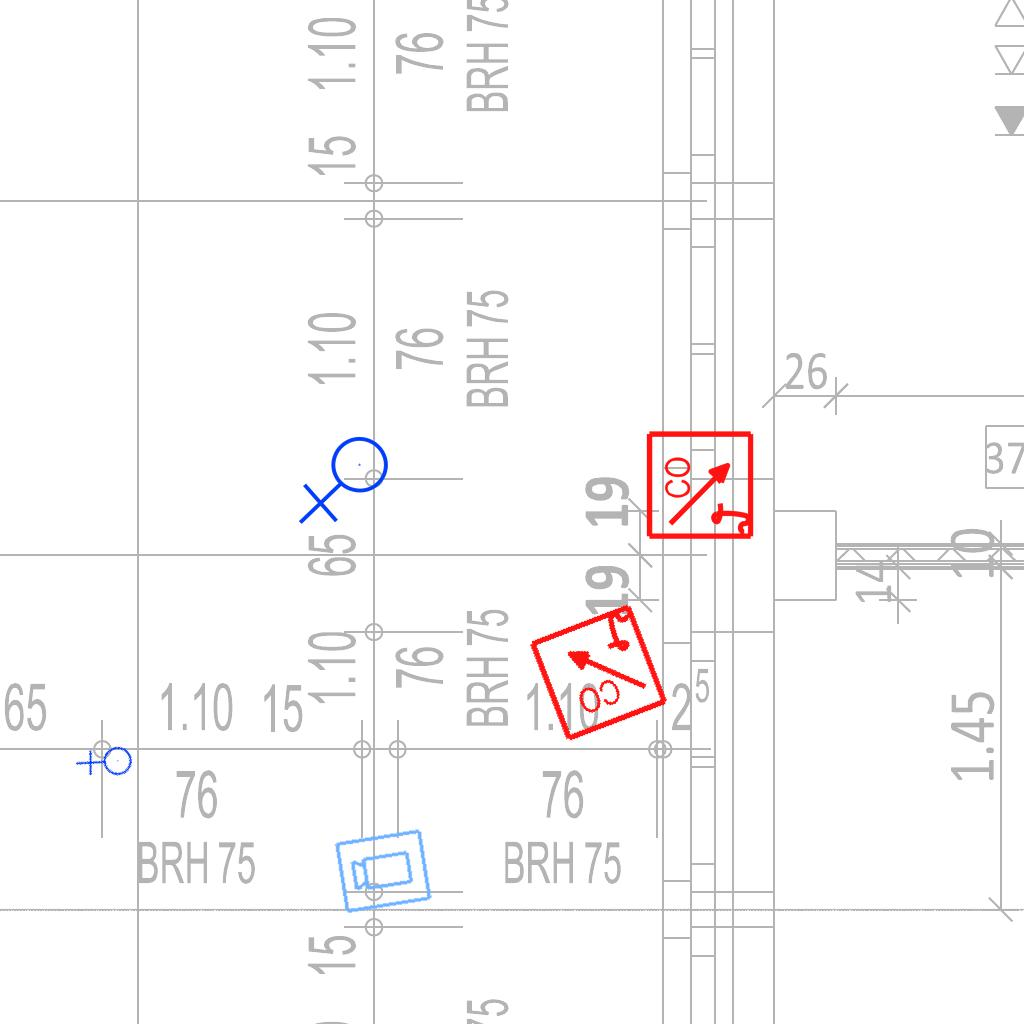Elektroanschluss_allgemein_230V_Geraeteanschlussdose_230V: (298, 435, 397, 529), (73, 729, 142, 798)
KFO_Kamera_mit_Festobjektiv: (332, 825, 435, 916)
ROA_Rauchmelder_optisch_mit_Signalgeber_(Sockelsirene): (524, 598, 671, 745), (645, 428, 758, 541)
